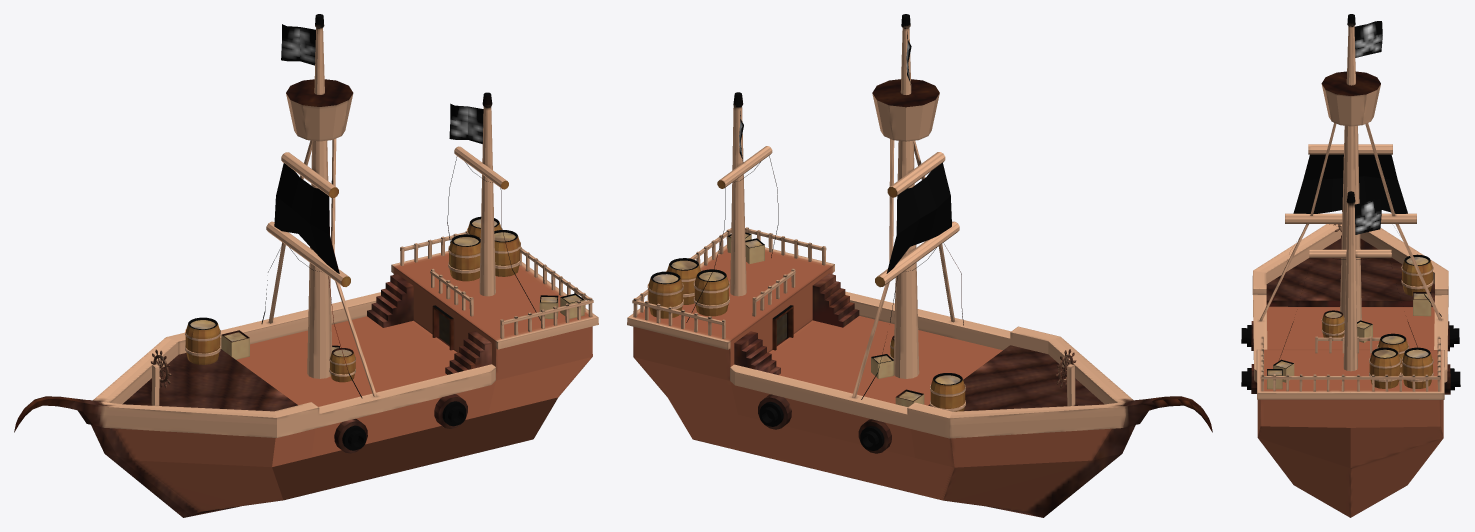
File: pirate_ship.glb
3 views of the same model, side by side, from view 1: azimuth 30°, elevation 25°; view 2: azimuth 150°, elevation 25°; view 3: azimuth 270°, elevation 25° (orthographic). The views are drawn at different scales.
Parts seen in each view (by area): view 1: Cube_Material_0; view 2: Cube_Material_0; view 3: Cube_Material_0.
Part boxes in pixels (left/top/right/bottom): Cube_Material_0: left=14, top=14, right=598, bottom=517; Cube_Material_0: left=627, top=14, right=1212, bottom=517; Cube_Material_0: left=1241, top=14, right=1460, bottom=517.
Bounding box in the file's own units: 9.69 × 8.05 × 3.84.
1 material, 1 textured.
